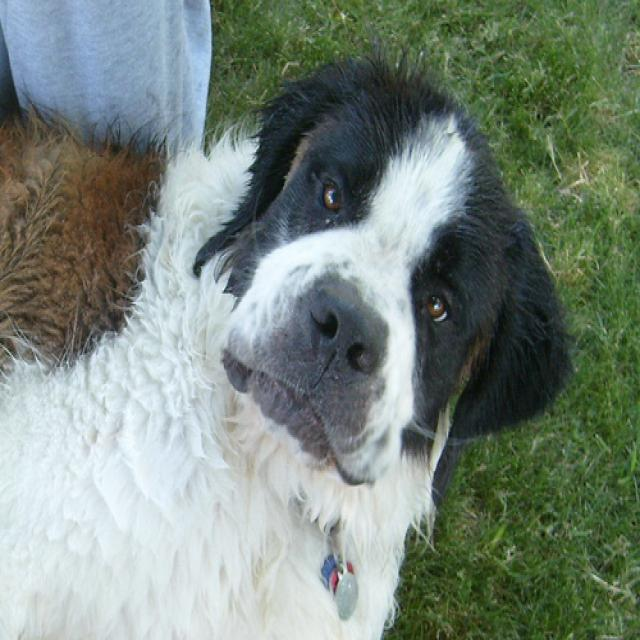dog-saint_bernard: (1, 51, 572, 637)
